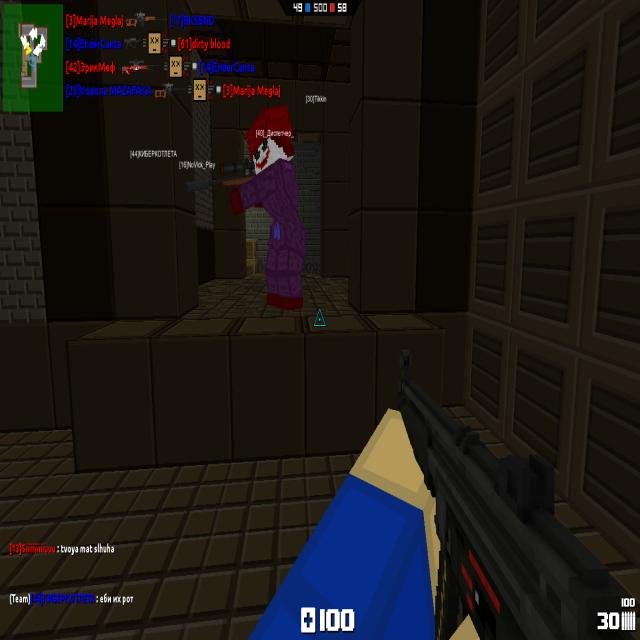enemy: (229, 102, 307, 312)
